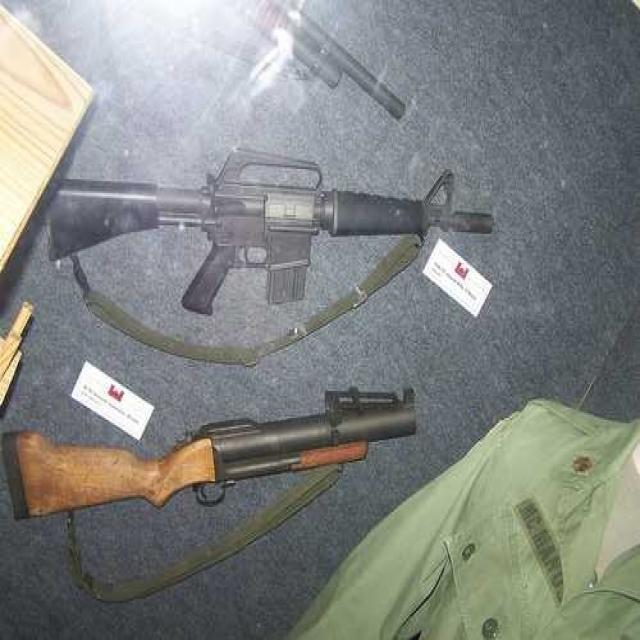Rifle: (41, 151, 500, 321)
